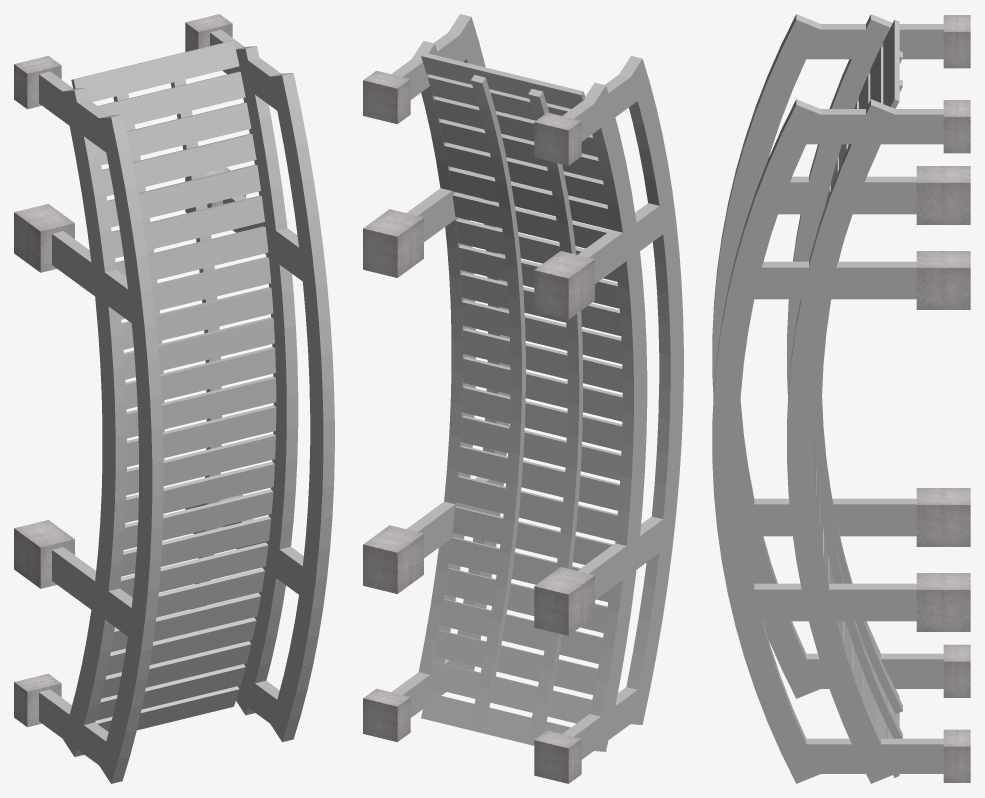
Rendered from bridge.obj.
The picture shows the model from 3 angles, left to right: view 1: azimuth 30°, elevation 25°; view 2: azimuth 150°, elevation 25°; view 3: azimuth 270°, elevation 25°; orthographic projection.
Visible parts, largest first — view 1: Arc09, Arc01, Box25, Box24, Box22, Box21, Box20, Box17, Box23, Box16, Box15, Box19 (+20 smaller); view 2: Arc09, Arc01, Arc06, Arc05, Box04, Box09, Box10, Box11, Box03, Box12, Box05, Box13 (+24 smaller); view 3: Arc01, Arc09, Arc06, Box26, Box31, Box40, Box41, Arc05, Box34, Box27, Box39, Box42 (+2 smaller).
Part boxes in pixels (left/top/right/bottom): Arc09: left=39, top=71, right=163, bottom=783; Arc01: left=210, top=29, right=334, bottom=742; Box25: left=71, top=40, right=239, bottom=101; Box24: left=98, top=71, right=245, bottom=126; Box22: left=102, top=134, right=256, bottom=196; Box21: left=107, top=164, right=260, bottom=227; Box20: left=111, top=195, right=264, bottom=258; Box17: left=121, top=287, right=273, bottom=349; Box23: left=98, top=102, right=251, bottom=165; Box16: left=124, top=317, right=274, bottom=379; Box15: left=125, top=347, right=275, bottom=409; Box19: left=115, top=226, right=268, bottom=281; Arc09: left=562, top=55, right=683, bottom=759; Arc01: left=391, top=14, right=510, bottom=717; Arc06: left=471, top=75, right=525, bottom=724; Arc05: left=528, top=89, right=582, bottom=737; Box04: left=434, top=630, right=597, bottom=694; Box09: left=456, top=476, right=617, bottom=540; Box10: left=458, top=445, right=619, bottom=510; Box11: left=460, top=415, right=621, bottom=480; Box03: left=427, top=661, right=592, bottom=723; Box12: left=462, top=386, right=622, bottom=450; Box05: left=439, top=599, right=602, bottom=663; Box13: left=463, top=357, right=622, bottom=421; Arc01: left=712, top=99, right=943, bottom=783; Arc09: left=712, top=14, right=943, bottom=698; Arc06: left=814, top=79, right=902, bottom=738; Box26: left=916, top=573, right=970, bottom=631; Box31: left=916, top=251, right=970, bottom=309; Box40: left=916, top=166, right=970, bottom=224; Box41: left=916, top=488, right=970, bottom=546; Arc05: left=822, top=51, right=902, bottom=713; Box34: left=943, top=100, right=970, bottom=153; Box27: left=943, top=729, right=970, bottom=782; Box39: left=943, top=15, right=970, bottom=68; Box42: left=943, top=644, right=970, bottom=697.
Size of the model in its own units: 89.7 by 278 by 95.84.
